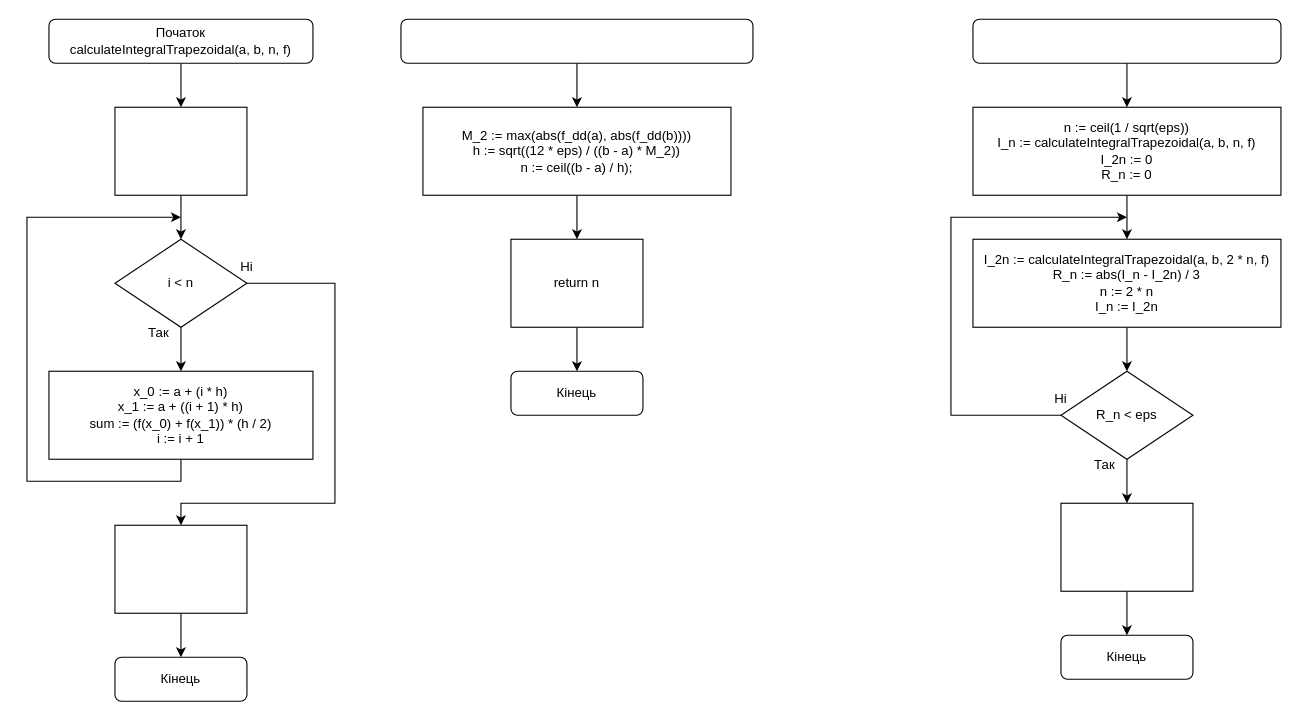
This 1300x721 diagram has some shape labels left out. Each missing label, with the centre of its shape:
h := (b - a) / n sum := 0 i := 0: pixel 180 150
return I_n: pixel 1126 546
return sum: pixel 180 568
Початок calculateIntegralTrapezoidalRunge(a, b, eps, f): pixel 1126 40
Початок calculateTrapezoidalStepsForPrecision(a, b, eps, f_dd): pixel 576 40
